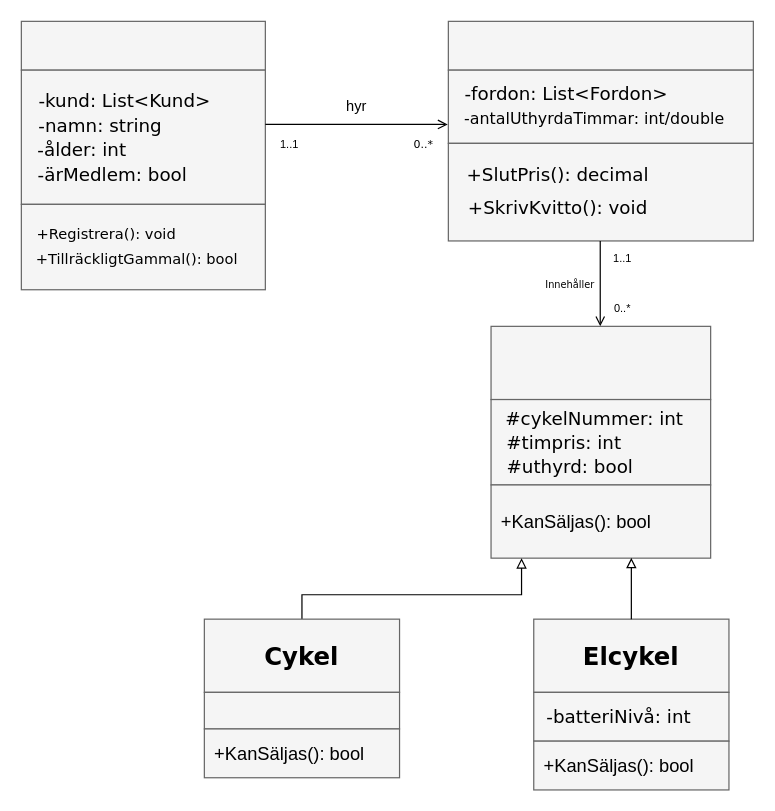
The diagram is 775 pixels wide and 811 high, and some of its shapes have lost their labels. The centre of each missing label's shape, as x and y in pixels:
"Fordon" belongs at pixel 600 362.
"Kund" belongs at pixel 142 45.
"Uthyrning" belongs at pixel 600 45.
